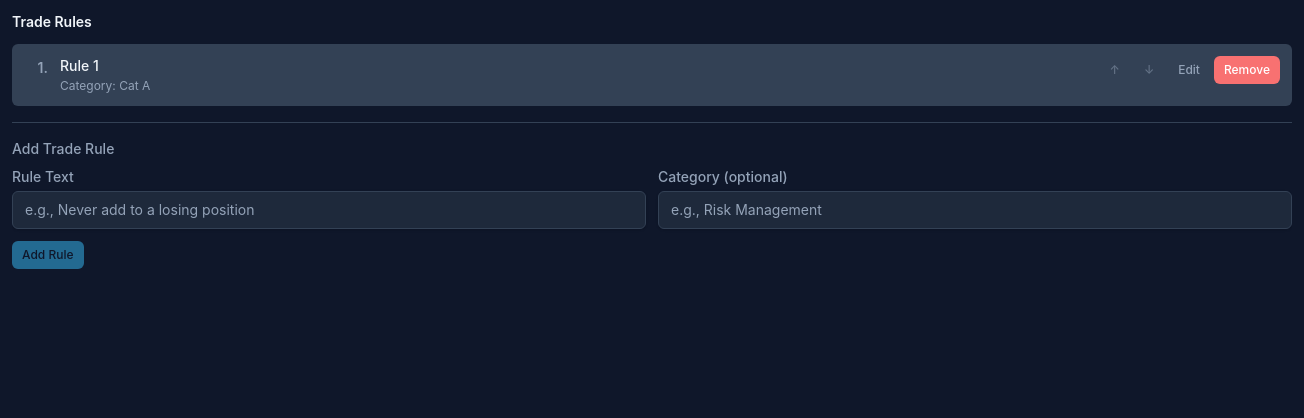
TradeRulesSection › cancels edit without saving
Click the button with aria-label "edit rule: rule 1" at (1189, 70), box [1168, 56, 1210, 84]
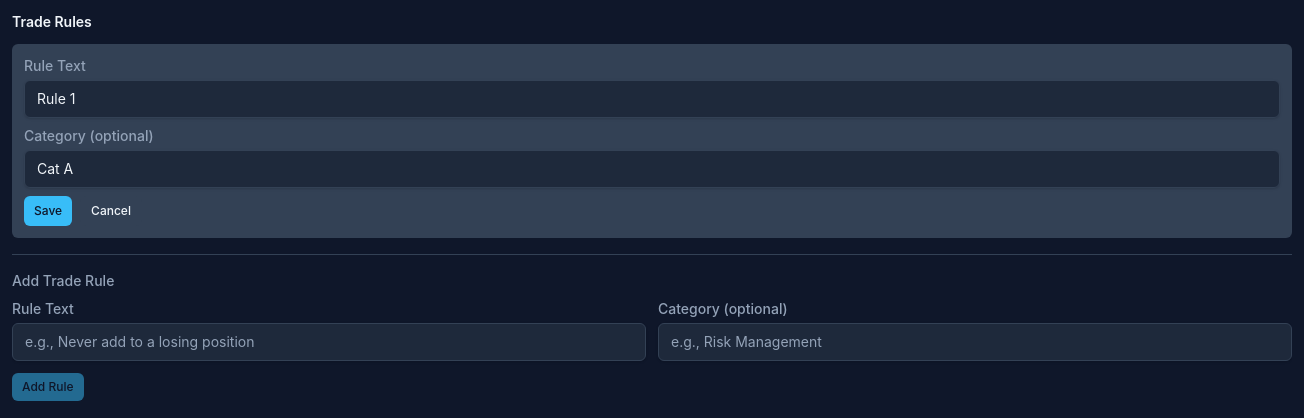
Click the button "Cancel" at (111, 211), box [80, 196, 142, 226]
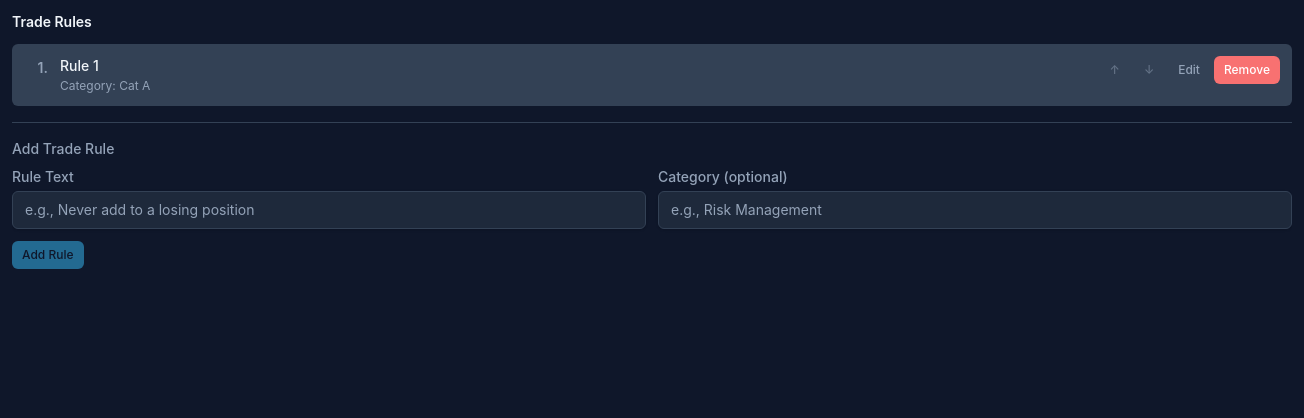
Now the text "Rule 1" is shown, box [60, 57, 99, 74]
